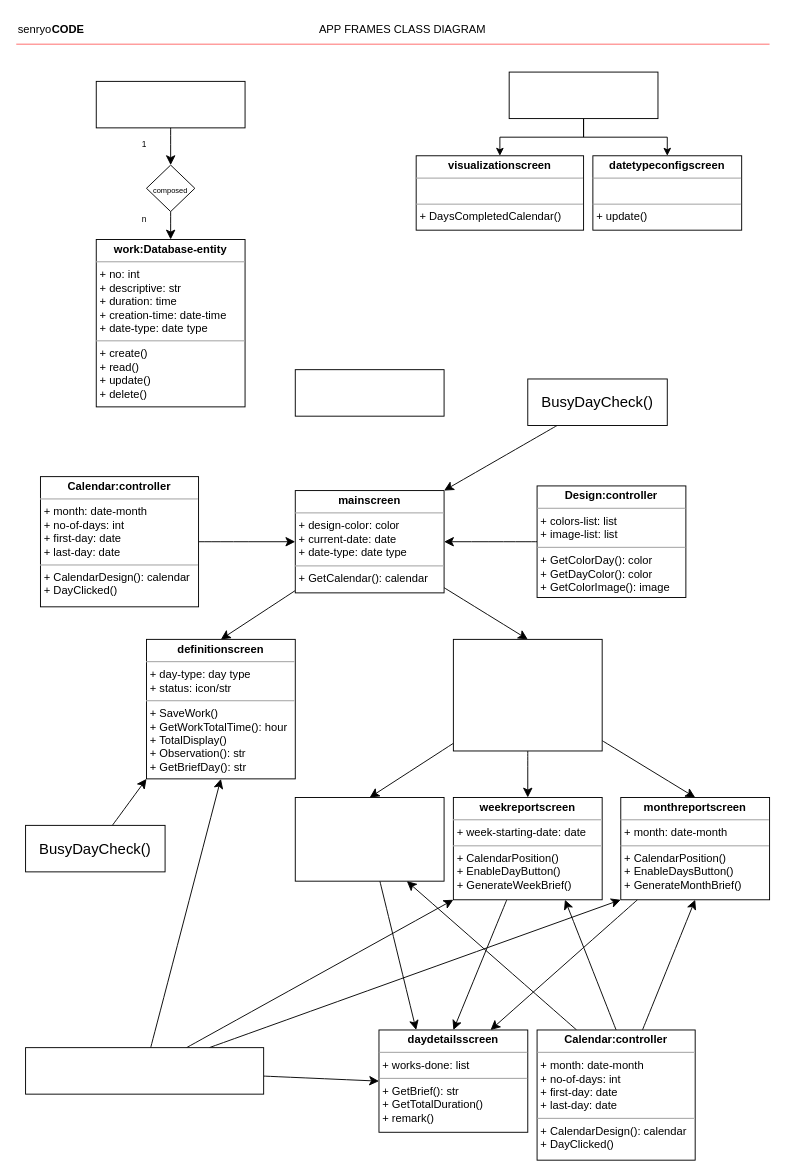
This 787x1176 diagram has some shape labels left out. The centre of each missing label's shape, as x and y in pixels:
"additionscreen" goes at point (583, 95).
"BriefDayAnalysisOnOpenAIapi()" goes at point (144, 1070).
"Day:Database-entity + date: date" goes at point (170, 104).
"dayreportscreen + day-date: date + CalendarPosition() + EnableDayButton()" goes at point (369, 839).
"firstscreen + SaveDayType()" goes at point (369, 392).
"reportscreen + forADay() + forAWeek() + forAMonth() + forAYear()" goes at point (527, 694).
